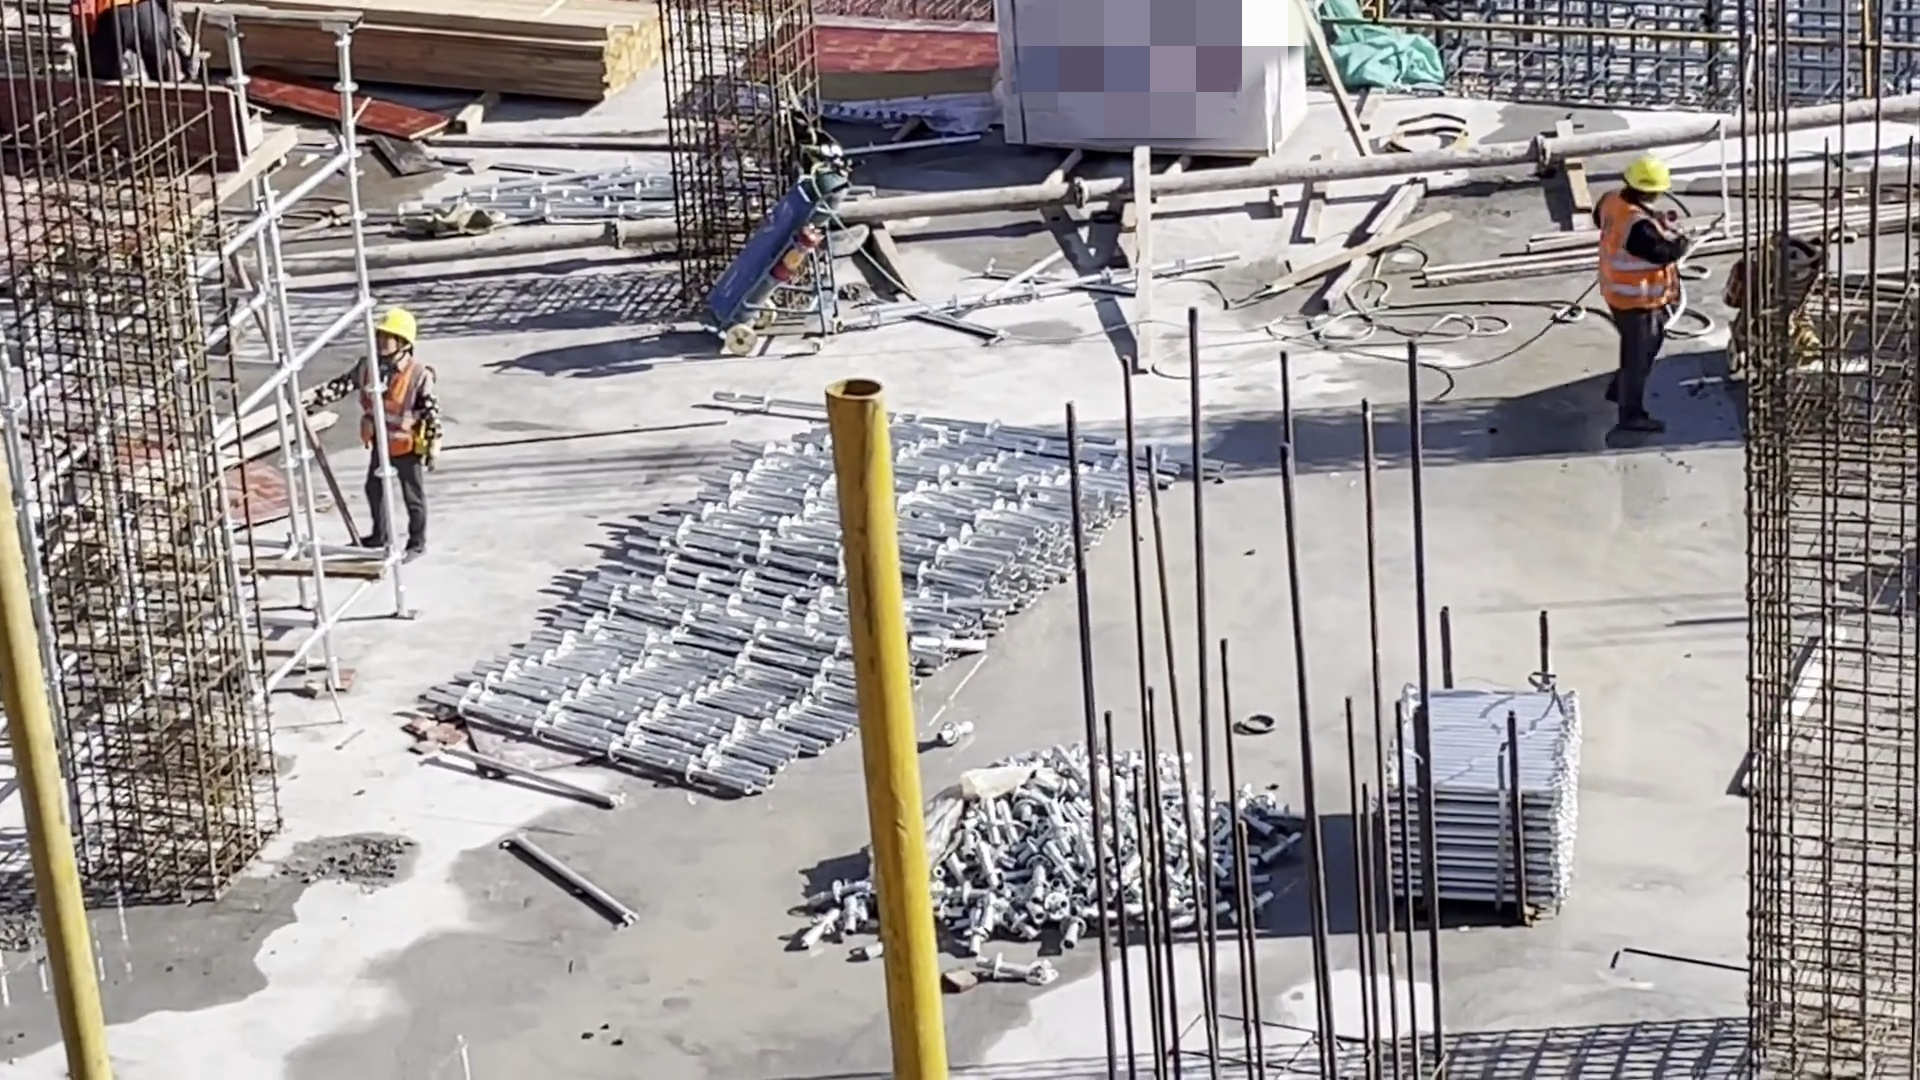helmet: (1622, 159, 1667, 193), (372, 309, 413, 342)
person: (306, 306, 445, 561), (1592, 156, 1685, 454), (73, 1, 174, 82)
scaffold: (435, 383, 1222, 805), (1384, 686, 1576, 926)
vest: (1600, 193, 1680, 318), (361, 357, 428, 459)
wood: (191, 1, 667, 101)
